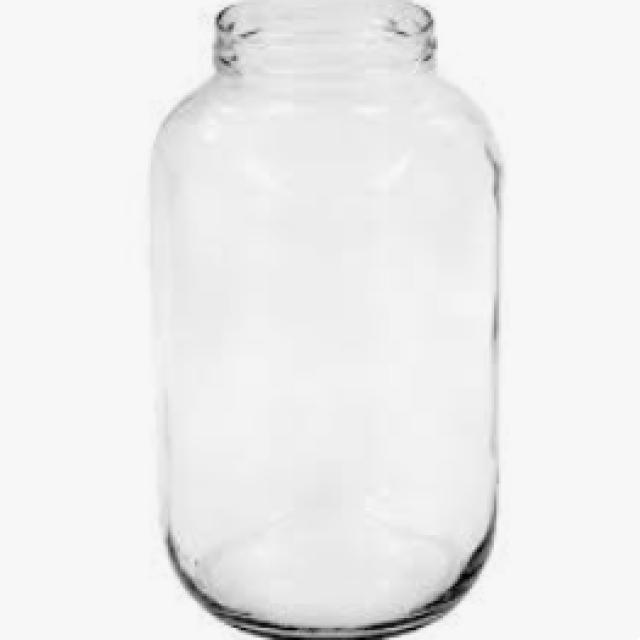ToplesKaca: (146, 0, 506, 638)
